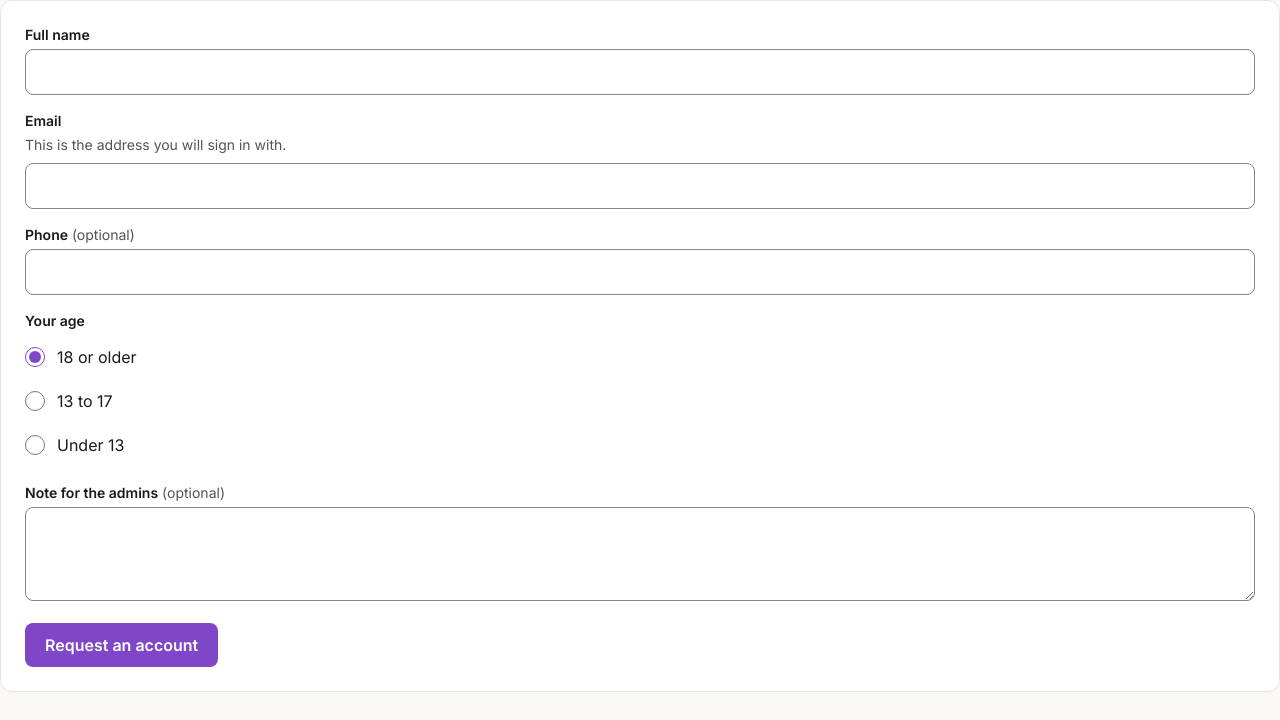
it: AccountRequestForm age gate (M1.3, DEC-8) › under 13 shows the household explanation and offers no submit
Click the radio button labelled "Under 13". click: x=35, y=445
box: [25,435,45,455]
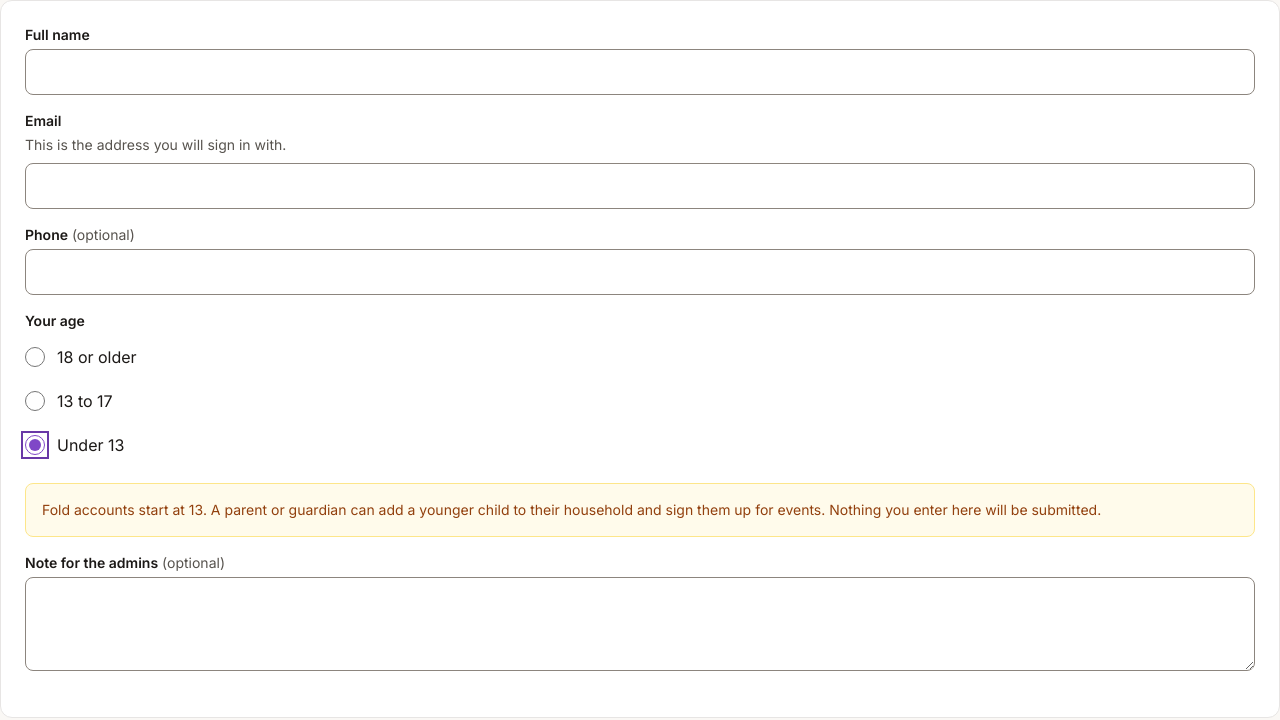
Expected: the text "add a younger child to their household" is shown, [42,501,1101,518]
Expected: the button "Request an account" is gone
